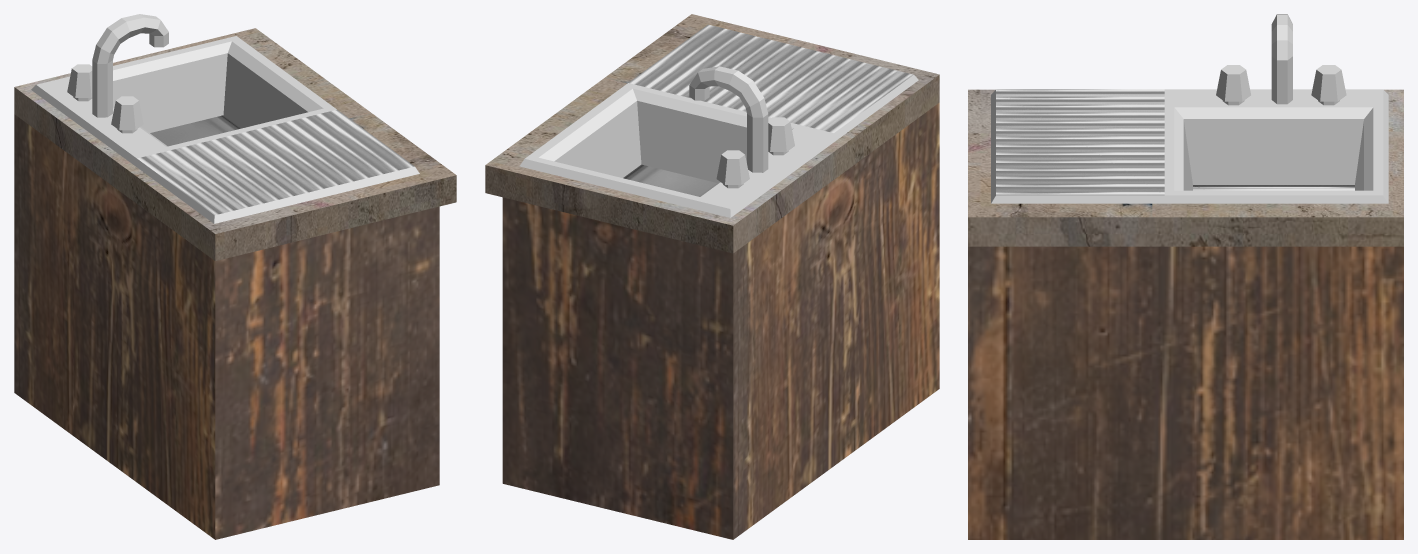
Rendered from mesa4.fbx.
The picture shows the model from 3 angles, left to right: view 1: azimuth 30°, elevation 25°; view 2: azimuth 150°, elevation 25°; view 3: azimuth 270°, elevation 25°; orthographic projection. The views are drawn at different scales.
Visible parts, largest first — view 1: Base_lavaplatos; view 2: Base_lavaplatos; view 3: Base_lavaplatos.
Part boxes in pixels (x1,y1,x2,y2): Base_lavaplatos: [14, 14, 456, 539]; Base_lavaplatos: [485, 14, 939, 539]; Base_lavaplatos: [968, 14, 1403, 539].
Bounding box in the file's own units: 142 × 225 × 205.
